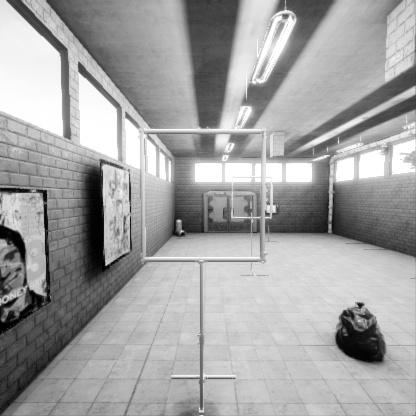gate: (144, 163, 270, 287), (232, 199, 274, 240), (265, 205, 273, 232)
